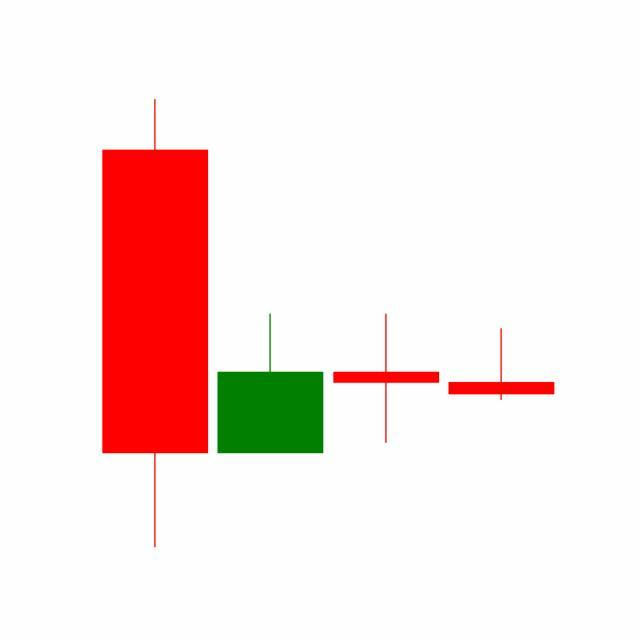Spinning Top: (329, 313, 445, 446)
